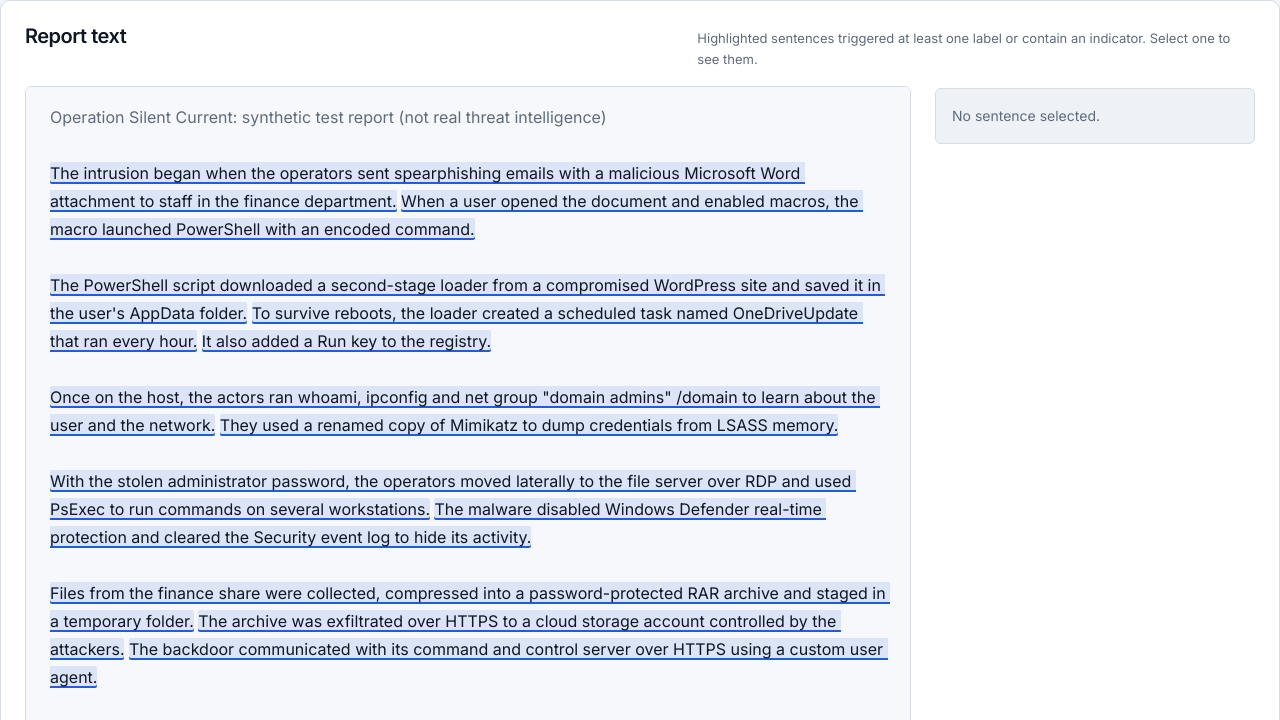
Scenario: ReportViewer › shows a sentence's labels when it is selected
This screenshot has width=1280, height=720.
Click the button "dump credentials from LSASS" at (529, 425), box [220,414,838,436]
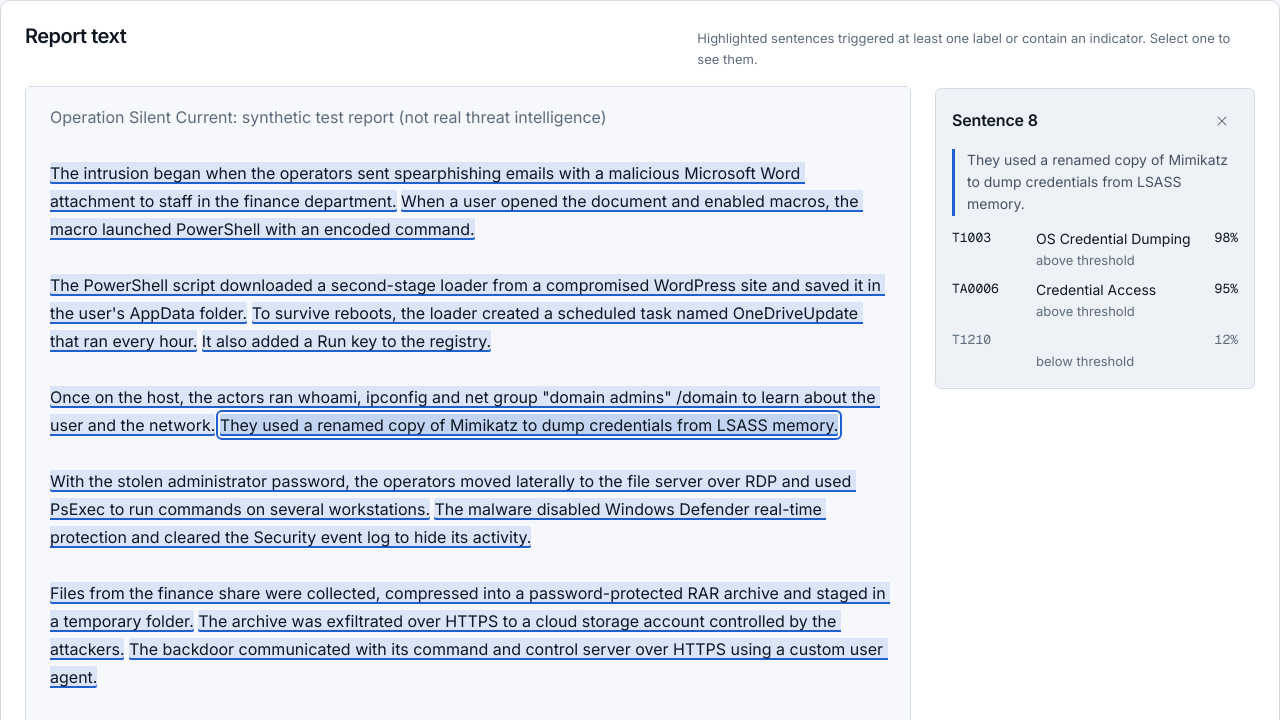
Result: the heading "Sentence 8" is shown at [952,112,1038,130]
Result: the text "T1003" is shown at [952,229,991,246]
